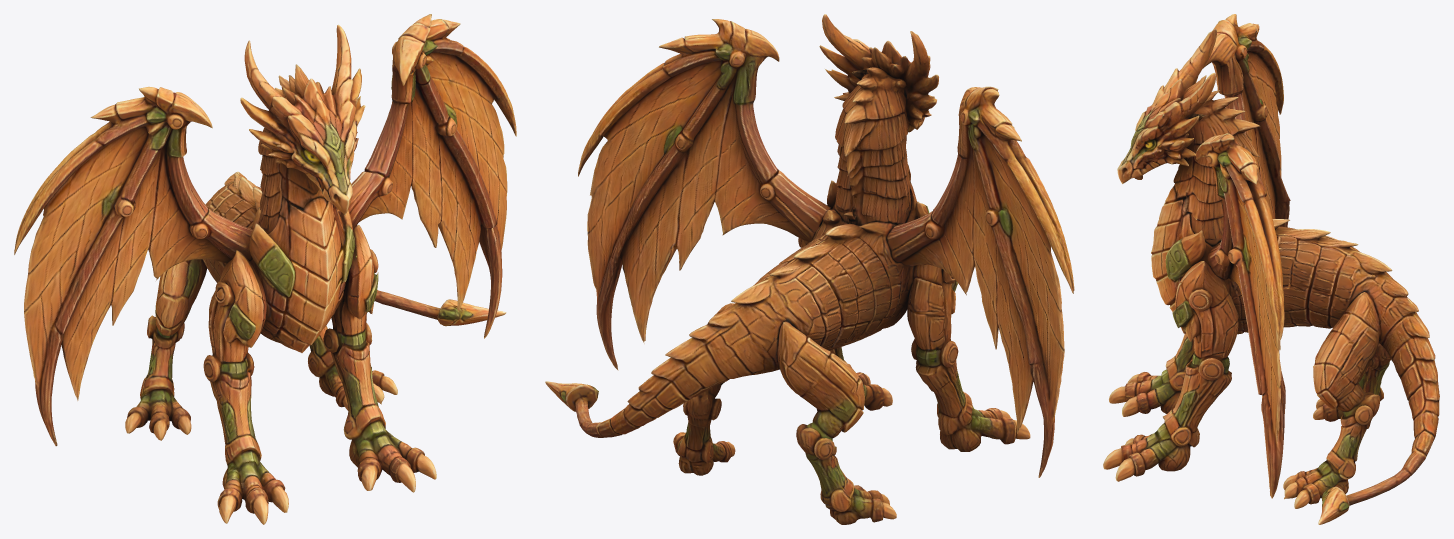
The model's file is base_basic_shaded.glb.
3 views of the same model, side by side, from view 1: azimuth 30°, elevation 25°; view 2: azimuth 150°, elevation 25°; view 3: azimuth 270°, elevation 25° (orthographic). The views are drawn at different scales.
Visible parts, largest first — view 1: root.2, root.1, root.0, root.3, root.5, root.4, root.7, root.8, root.6; view 2: root.1, root.2, root.0, root.8, root.7, root.3, root.5, root.6, root.4; view 3: root.0, root.1, root.4, root.6, root.2, root.5, root.8, root.3, root.7.
Part boxes in pixels (x1,y1,x2,y2): root.2: (14, 86, 252, 446); root.1: (336, 14, 516, 338); root.0: (202, 171, 506, 352); root.3: (203, 250, 288, 524); root.5: (240, 24, 365, 215); root.4: (323, 225, 436, 492); root.7: (125, 259, 207, 440); root.8: (258, 75, 326, 233); root.6: (308, 326, 397, 410); root.1: (578, 19, 830, 370); root.2: (886, 86, 1074, 477); root.0: (545, 165, 929, 437); root.8: (834, 67, 911, 225); root.7: (777, 320, 896, 524); root.3: (907, 264, 1030, 451); root.5: (819, 14, 938, 132); root.6: (673, 303, 735, 475); root.4: (798, 238, 892, 410); root.0: (1151, 186, 1439, 524); root.1: (1196, 133, 1285, 498); root.4: (1103, 261, 1238, 481); root.6: (1283, 291, 1381, 508); root.2: (1203, 14, 1290, 227); root.5: (1117, 29, 1216, 183); root.8: (1173, 90, 1260, 245); root.3: (1109, 333, 1194, 416); root.7: (1313, 343, 1390, 421).
Bounding box in the file's own units: 61.47 × 50 × 38.28.
Materials: 9 (9 with a texture image).
